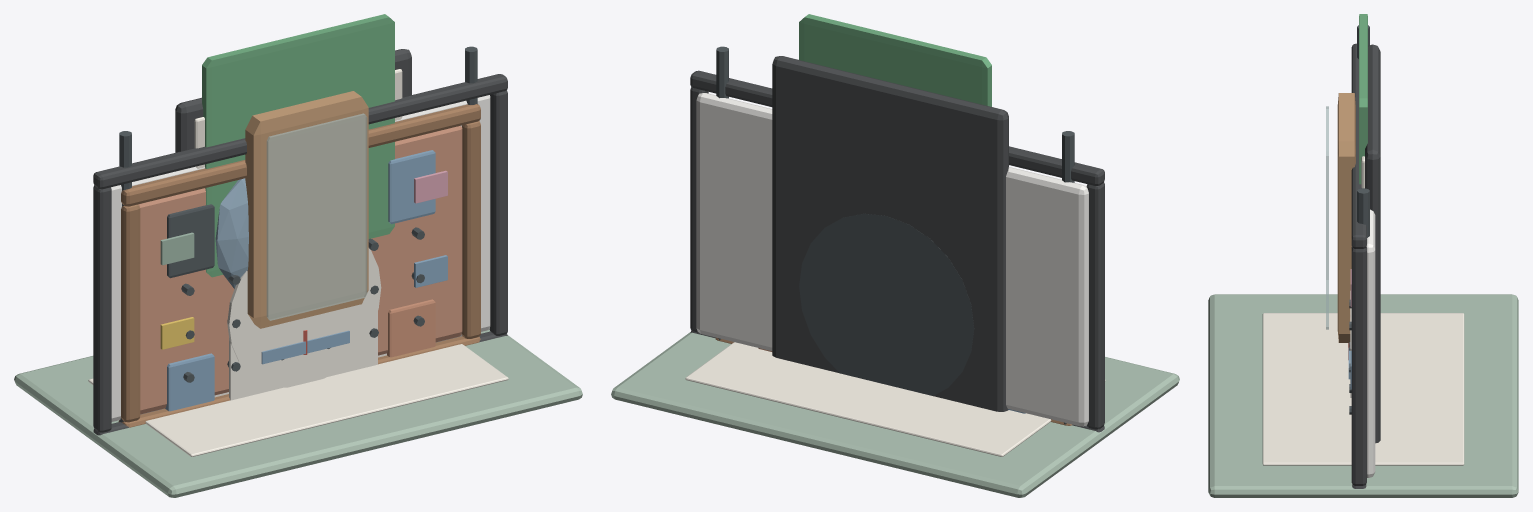
File: decor.glb
3 renders of one model, left to right at view 1: azimuth 30°, elevation 25°; view 2: azimuth 150°, elevation 25°; view 3: azimuth 270°, elevation 25°, orthographic. The views are drawn at different scales.
Visible parts, largest first — view 1: HF_Rug_Rounded, HF_Corkboard, HF_StandingMirror, HF_Whiteboard, HF_GreenScreen, HF_AcousticPanelSet, HF_WallClock, HF_WallArt_Abstract, HF_CustomSignFrame, HF_GlassWhiteboard, HF_KanbanBoard, HF_Pegboard; view 2: HF_WallArt_Abstract, HF_Whiteboard, HF_Rug_Rounded, HF_WallClock, HF_GreenScreen; view 3: HF_Rug_Rounded, HF_Whiteboard, HF_StandingMirror, HF_WallArt_Abstract, HF_GreenScreen.
Part boxes in pixels (x1,y1,x2,y2): HF_Rug_Rounded: (14,329,582,497); HF_Corkboard: (118,104,480,427); HF_StandingMirror: (245,91,368,328); HF_Whiteboard: (93,74,507,435); HF_GreenScreen: (119,14,477,422); HF_AcousticPanelSet: (165,150,435,411); HF_WallClock: (227,248,381,387); HF_WallArt_Abstract: (175,49,411,397); HF_CustomSignFrame: (229,311,377,400); HF_GlassWhiteboard: (161,232,447,349); HF_KanbanBoard: (160,170,447,349); HF_Pegboard: (181,227,424,382); HF_WallArt_Abstract: (772,56,1008,411); HF_Whiteboard: (690,70,1104,432); HF_Rug_Rounded: (611,332,1179,497); HF_WallClock: (799,213,974,395); HF_GreenScreen: (716,14,1074,424); HF_Rug_Rounded: (1208,294,1518,497); HF_Whiteboard: (1351,43,1375,488); HF_StandingMirror: (1326,93,1355,342); HF_WallArt_Abstract: (1350,44,1380,443); HF_GreenScreen: (1357,14,1369,237).
Bounding box in the file's own units: 1.8 × 1.47 × 1.2.
